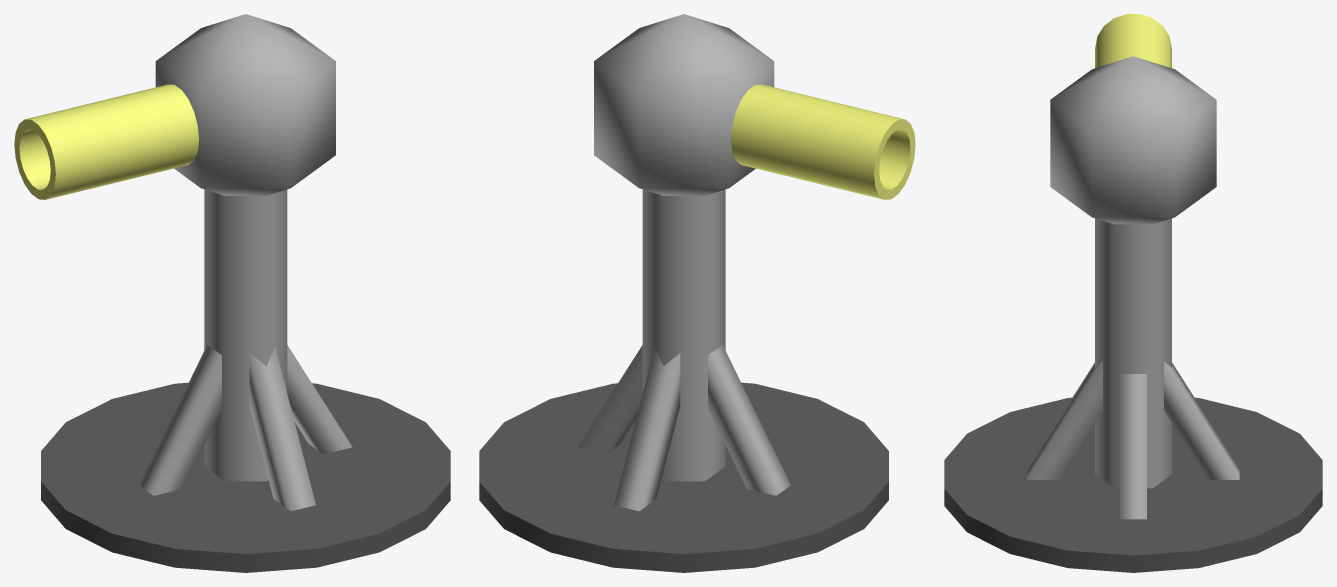
File: Turret.glb
The picture shows the model from 3 angles, left to right: view 1: azimuth 30°, elevation 25°; view 2: azimuth 150°, elevation 25°; view 3: azimuth 270°, elevation 25°; orthographic projection. The views are drawn at different scales.
Visible parts, largest first — view 1: Cylinder001, Sphere001, Cylinder002, Tube001, Cylinder003 (×3); view 2: Cylinder001, Sphere001, Cylinder002, Tube001, Cylinder003 (×3); view 3: Cylinder001, Sphere001, Cylinder002, Cylinder003 (×3), Tube001.
Boxes of the visible parts, left/top/right/bottom form: Cylinder001: left=41, top=382, right=450, bottom=572; Sphere001: left=155, top=14, right=335, bottom=195; Cylinder002: left=204, top=189, right=287, bottom=481; Tube001: left=14, top=84, right=198, bottom=199; Cylinder003 (×3): left=139, top=345, right=352, bottom=511; Cylinder001: left=479, top=382, right=888, bottom=572; Sphere001: left=594, top=14, right=774, bottom=195; Cylinder002: left=642, top=189, right=725, bottom=481; Tube001: left=731, top=84, right=915, bottom=199; Cylinder003 (×3): left=577, top=345, right=790, bottom=511; Cylinder001: left=944, top=397, right=1322, bottom=572; Sphere001: left=1050, top=56, right=1216, bottom=224; Cylinder002: left=1095, top=218, right=1171, bottom=488; Cylinder003 (×3): left=1027, top=361, right=1239, bottom=519; Tube001: left=1095, top=14, right=1171, bottom=68.
Bounding box in the file's own units: 0.217 × 0.25 × 0.197.
